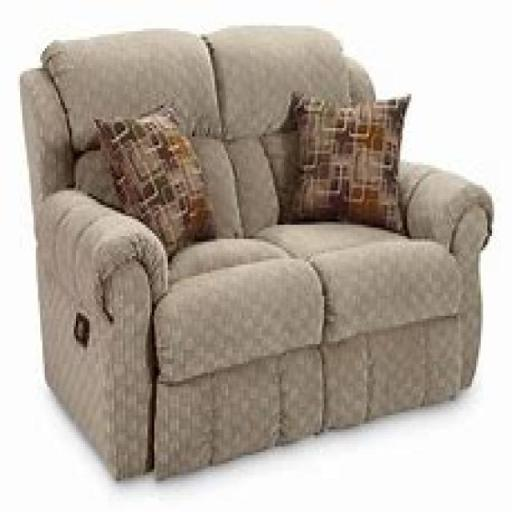sofa: (18, 16, 510, 468)
